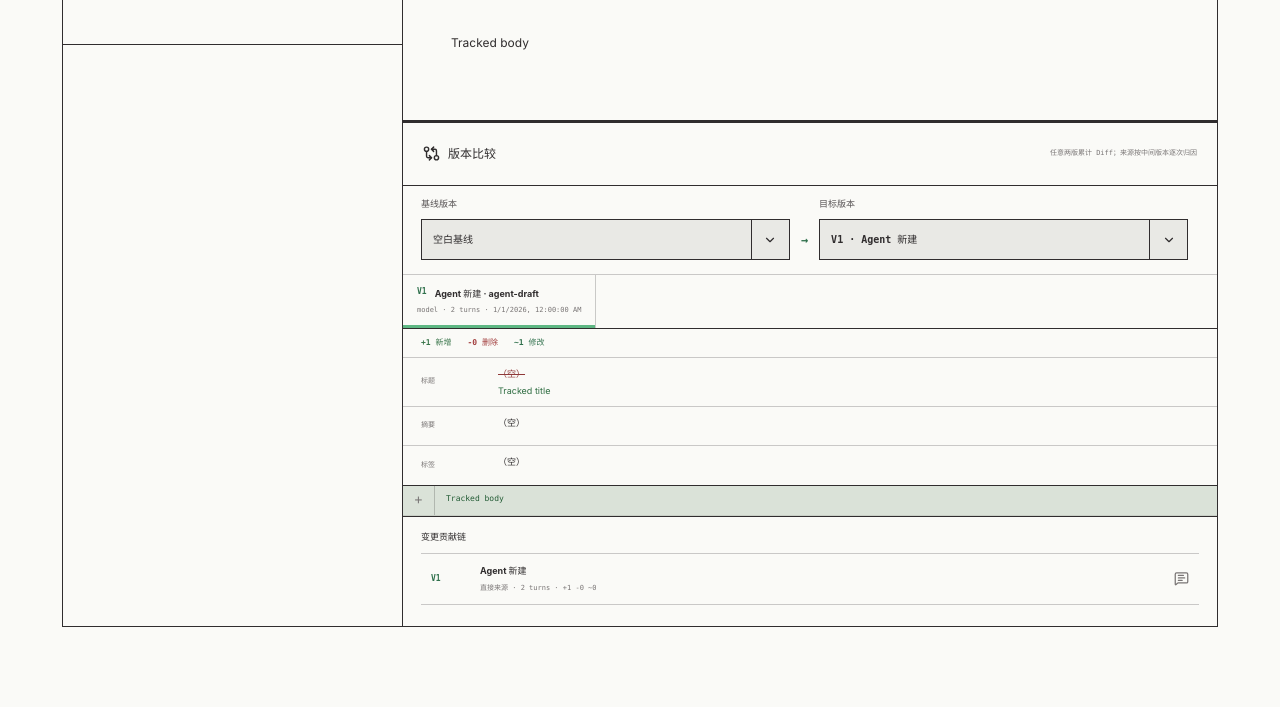
Test: HistoryPage › loads the exact source turns when a version contribution is opened
(page scrolled)
Click the button "V1 Agent 新建 直接来源 · 2 turns · +1 -0 ~0": click(503, 571) [421,553,1199,605]
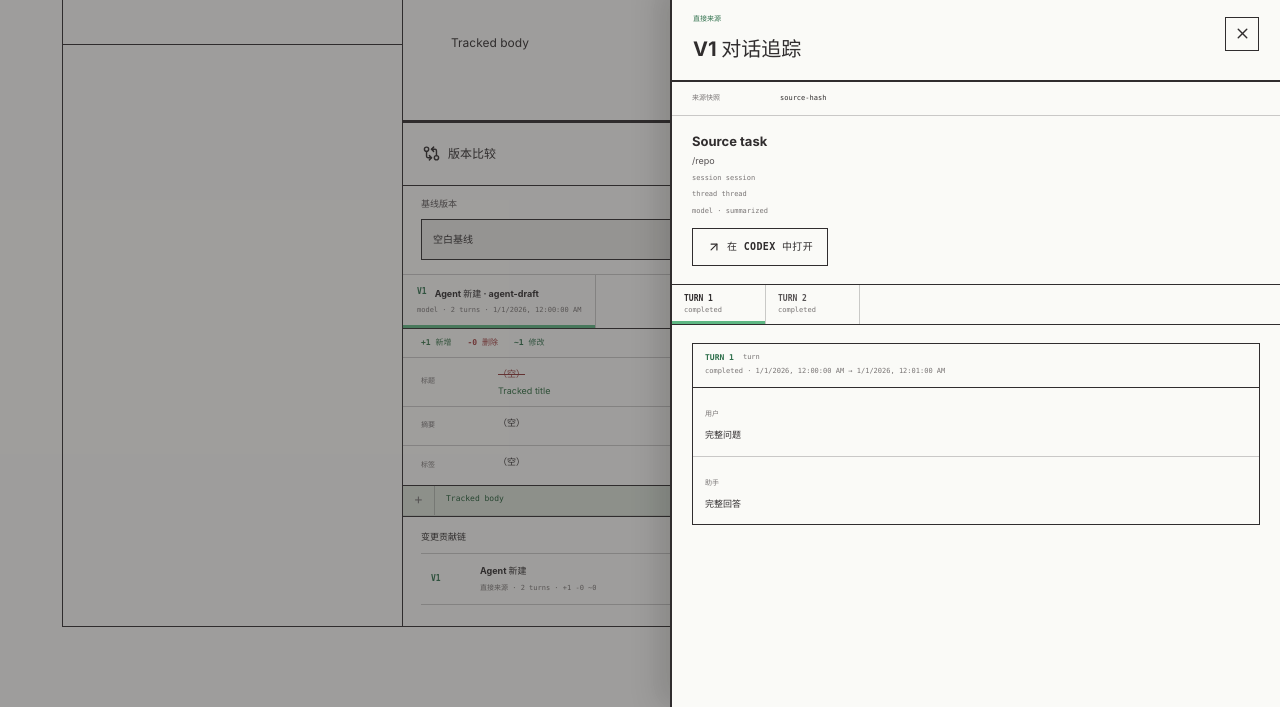
expect the text "完整问题" is shown: met, box [705,431,741,441]
expect the text "完整回答" is shown: met, box [705,500,741,510]
expect the text "Source task" is shown: met, box [692,134,767,150]
Click the button "TURN 2 completed": click(813, 304) [766,285,860,324]
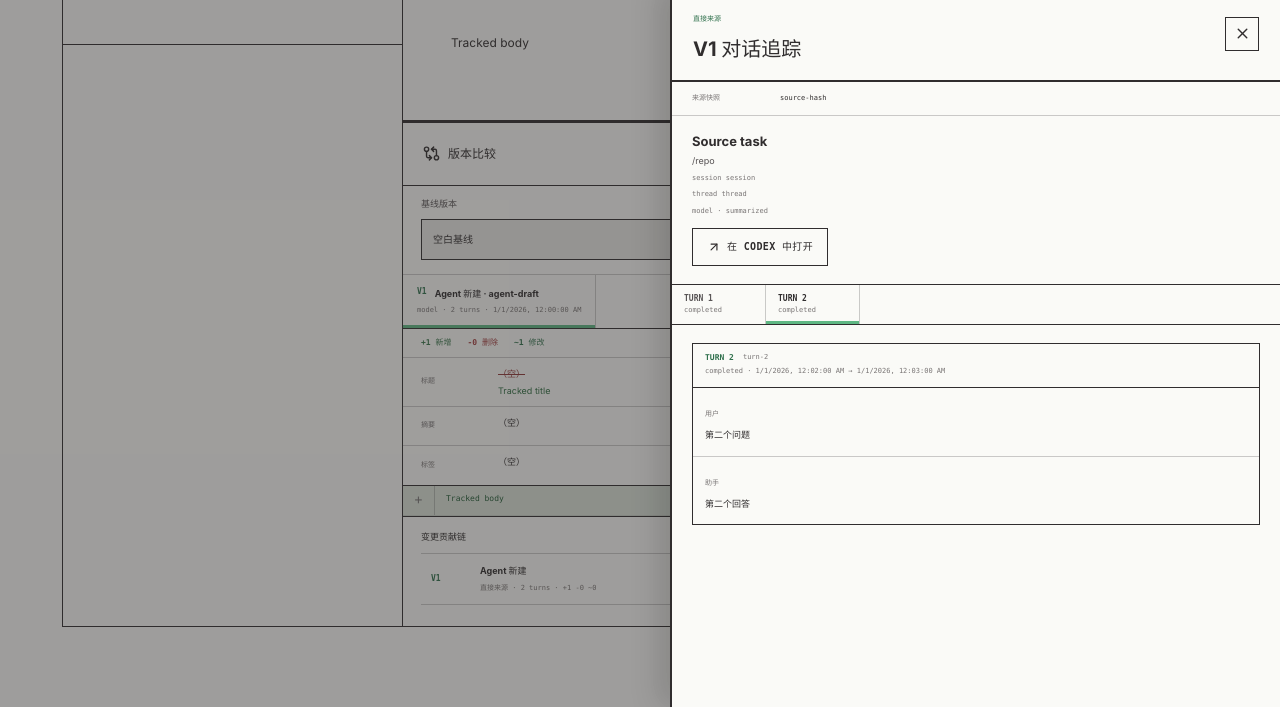
expect the text "第二个问题" is shown: met, box [705,431,750,441]
expect the text "完整问题" is gone: met
